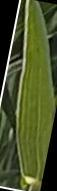Potato: (20, 14, 54, 103), (20, 107, 53, 174)
